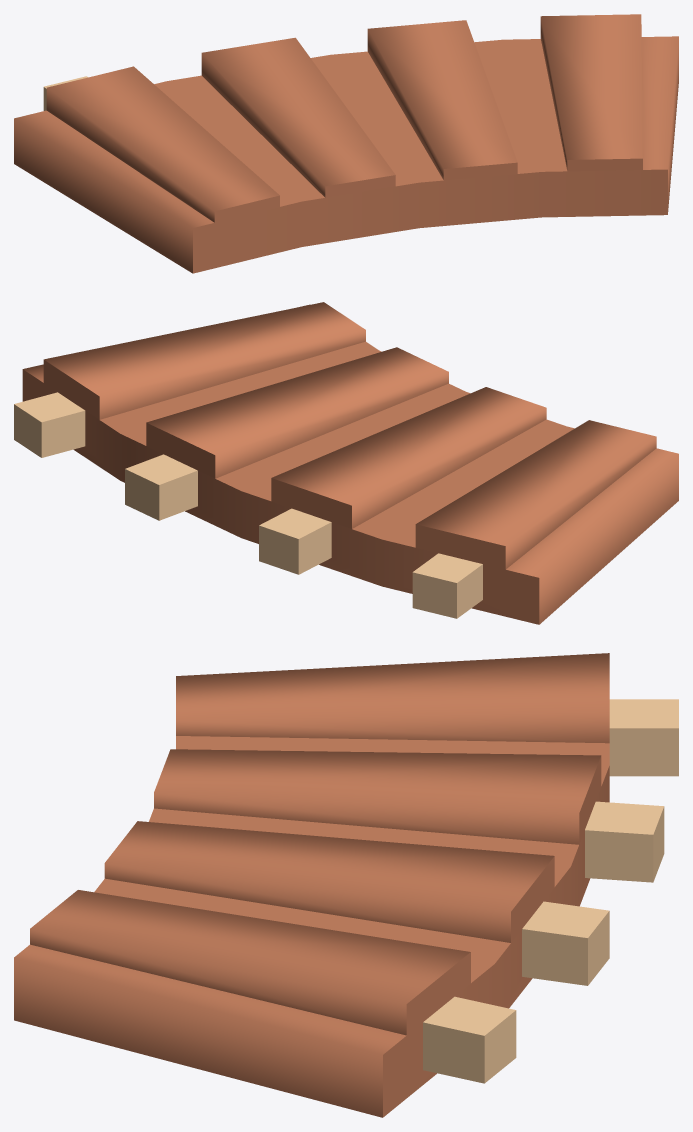
The model's file is Meat Ribs.glb.
3 views of the same model, one above another, from view 1: azimuth 30°, elevation 25°; view 2: azimuth 150°, elevation 25°; view 3: azimuth 270°, elevation 25° (orthographic). The views are drawn at different scales.
Parts seen in each view (by area): view 1: meatRibs; view 2: meatRibs; view 3: meatRibs.
Boxes of the visible parts, x1=… form: meatRibs: x1=14, y1=14, x2=678, y2=273; meatRibs: x1=14, y1=302, x2=678, y2=624; meatRibs: x1=14, y1=653, x2=678, y2=1117.
Bounding box in the file's own units: 0.5354 × 0.06 × 0.3834.
